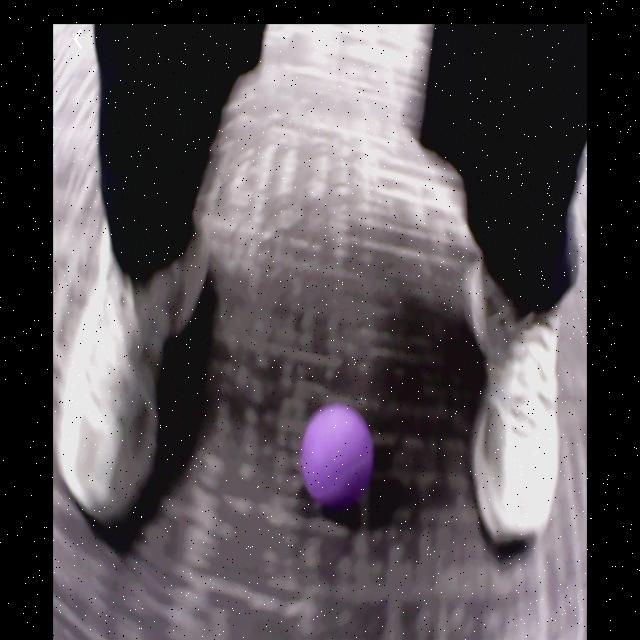ball: (302, 405, 373, 507)
